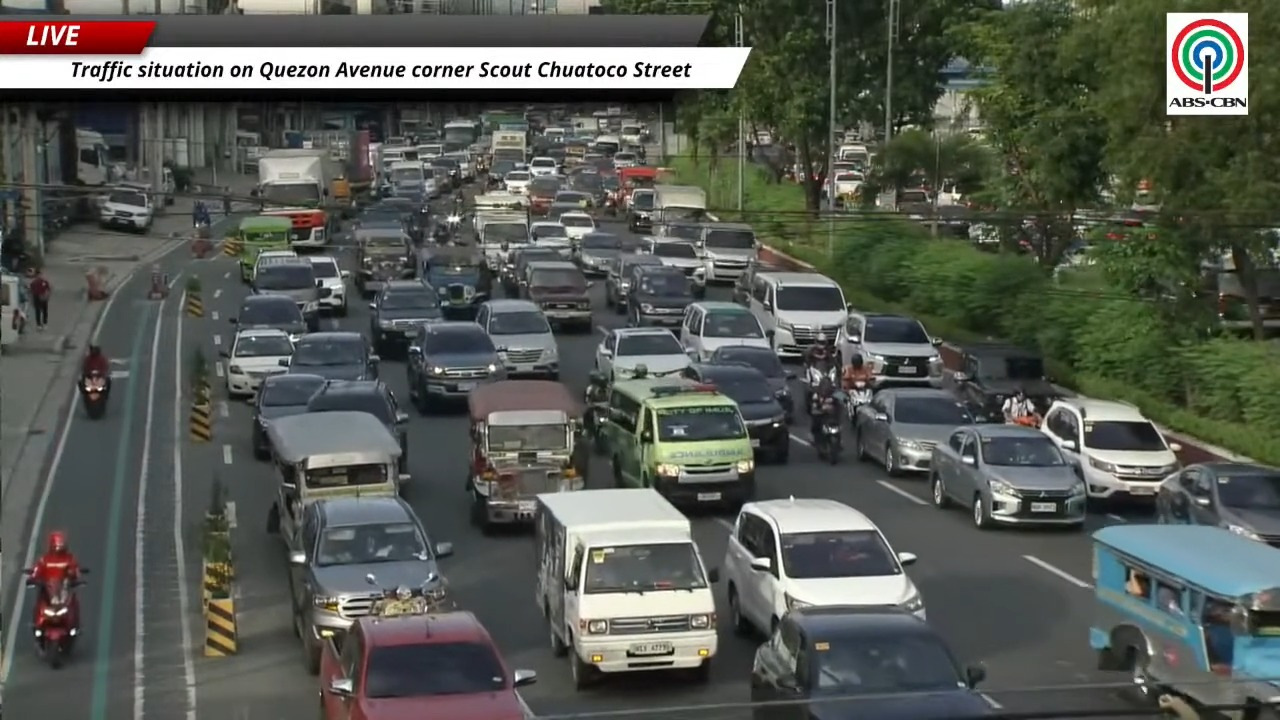car: (289, 497, 451, 673), (751, 605, 996, 719), (724, 498, 924, 634), (320, 611, 535, 719), (929, 424, 1086, 528), (1040, 398, 1180, 501), (852, 387, 974, 475), (682, 363, 789, 463), (1156, 462, 1279, 546), (307, 380, 409, 473), (943, 343, 1059, 421), (406, 321, 504, 413), (749, 272, 848, 356), (835, 311, 940, 386), (707, 346, 795, 423), (476, 299, 559, 379), (251, 373, 326, 459), (680, 301, 771, 361), (369, 281, 442, 354), (220, 329, 293, 397), (522, 260, 591, 330), (595, 327, 690, 377), (250, 258, 329, 316), (624, 264, 695, 327), (288, 331, 379, 380), (228, 295, 315, 342), (698, 222, 759, 282), (640, 238, 705, 294), (605, 253, 661, 313), (502, 245, 564, 296), (574, 232, 633, 276), (307, 256, 349, 316), (731, 260, 785, 306), (99, 188, 154, 232), (248, 249, 300, 282), (525, 173, 562, 215), (529, 221, 571, 257), (569, 173, 607, 209), (627, 188, 655, 232), (426, 156, 462, 189), (551, 189, 594, 216), (558, 211, 596, 240), (652, 220, 701, 242), (502, 170, 531, 194), (527, 156, 559, 176), (613, 152, 640, 168)
motorcycle: (24, 568, 83, 668), (365, 573, 455, 616), (813, 392, 846, 464), (802, 362, 839, 408), (79, 372, 108, 419), (845, 381, 872, 420), (1008, 414, 1041, 428), (445, 212, 461, 236)
truck: (534, 488, 718, 688), (255, 150, 340, 246), (39, 120, 117, 219), (290, 130, 373, 215), (474, 208, 528, 271), (653, 185, 707, 227), (489, 131, 527, 163), (441, 119, 479, 146)
